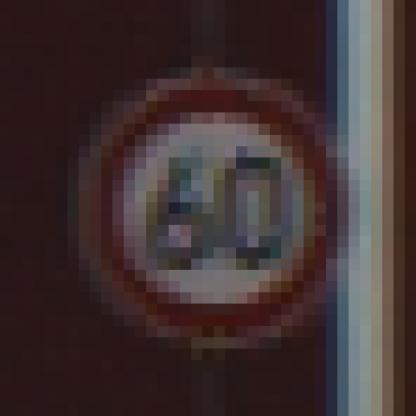Speed Limit 60: (100, 82, 336, 340)
